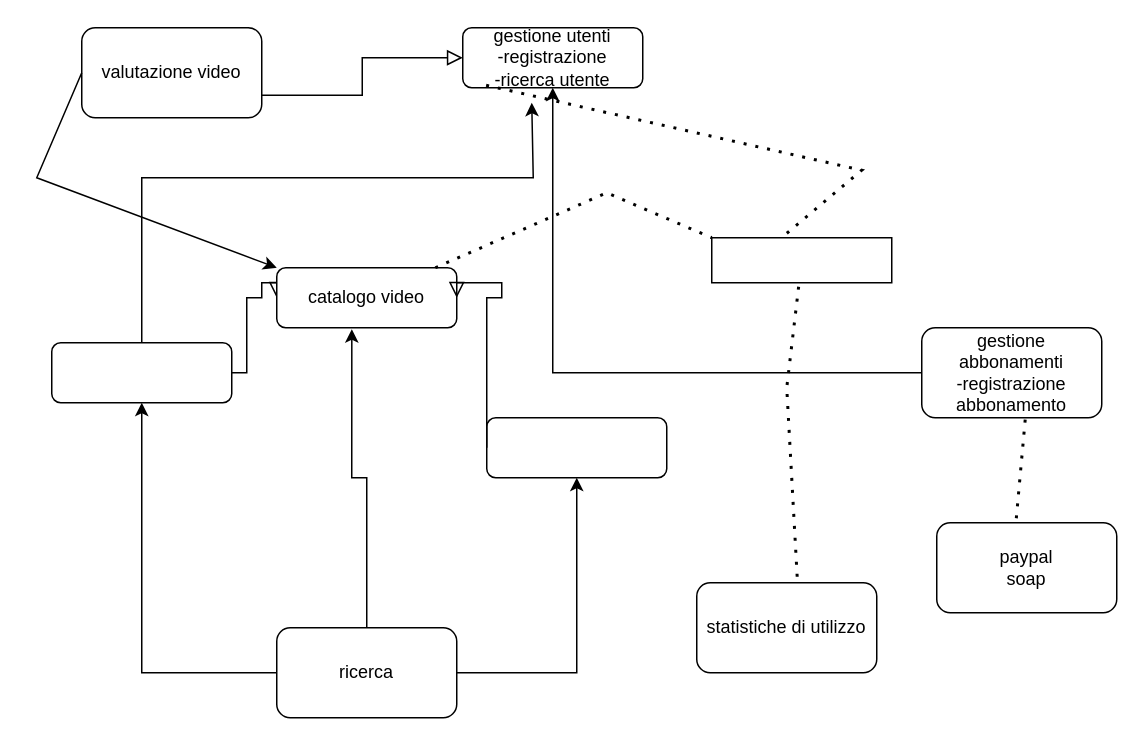
The diagram is 1143 pixels wide and 744 high, and some of its shapes have lost their labels. Here are the shapes that lost their labels. From the top down, the centre of each, then its label:
pixel 801 259: richiesta statistiche
pixel 141 372: preferiti
pixel 576 447: categorie
